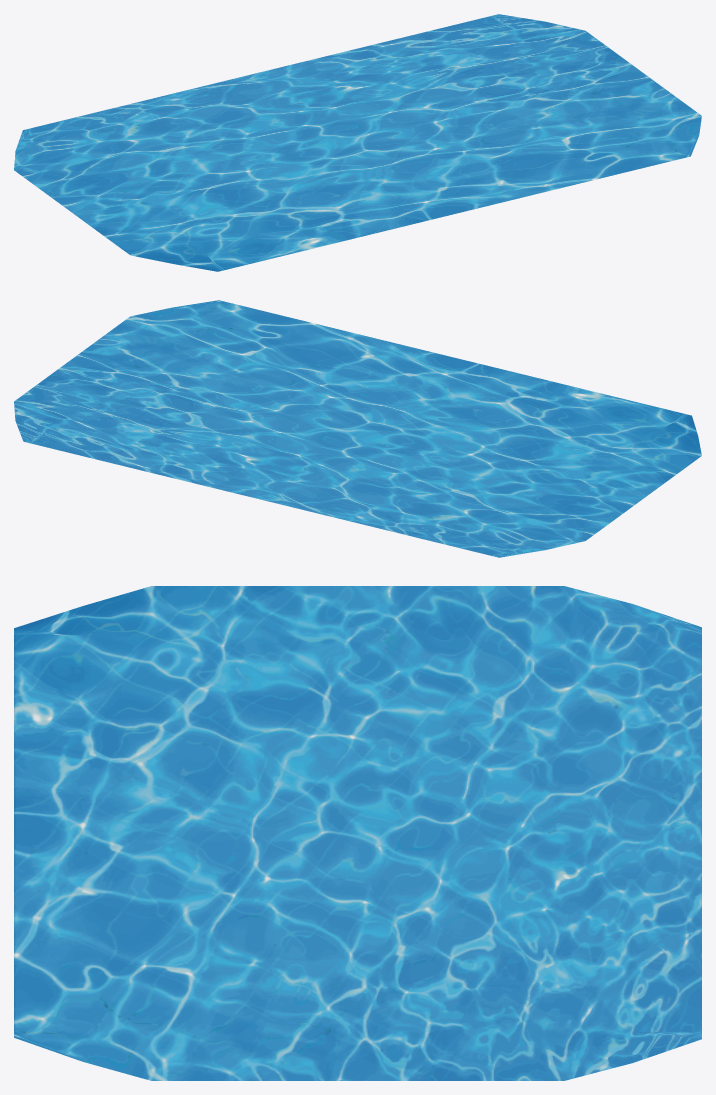
Rendered from agua.obj.
3 renders of one model, top to bottom at view 1: azimuth 30°, elevation 25°; view 2: azimuth 150°, elevation 25°; view 3: azimuth 270°, elevation 25°, orthographic. The views are drawn at different scales.
Visible parts, largest first — view 1: agua1:pPlane1; view 2: agua1:pPlane1; view 3: agua1:pPlane1.
Part boxes in pixels (x1,y1,x2,y2): agua1:pPlane1: [14, 14, 701, 271]; agua1:pPlane1: [14, 300, 701, 557]; agua1:pPlane1: [14, 586, 701, 1080].
Size of the model in its own units: 126 by 0 by 74.27.
1 material, 1 textured.
